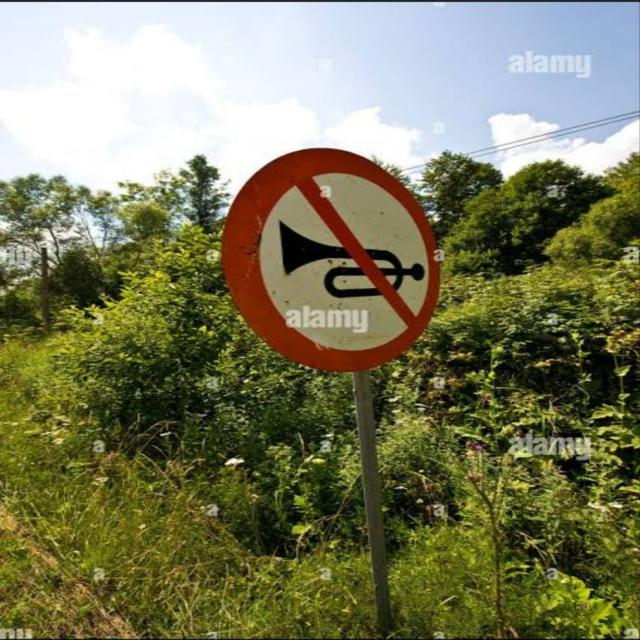No_Horn: (221, 150, 443, 369)
